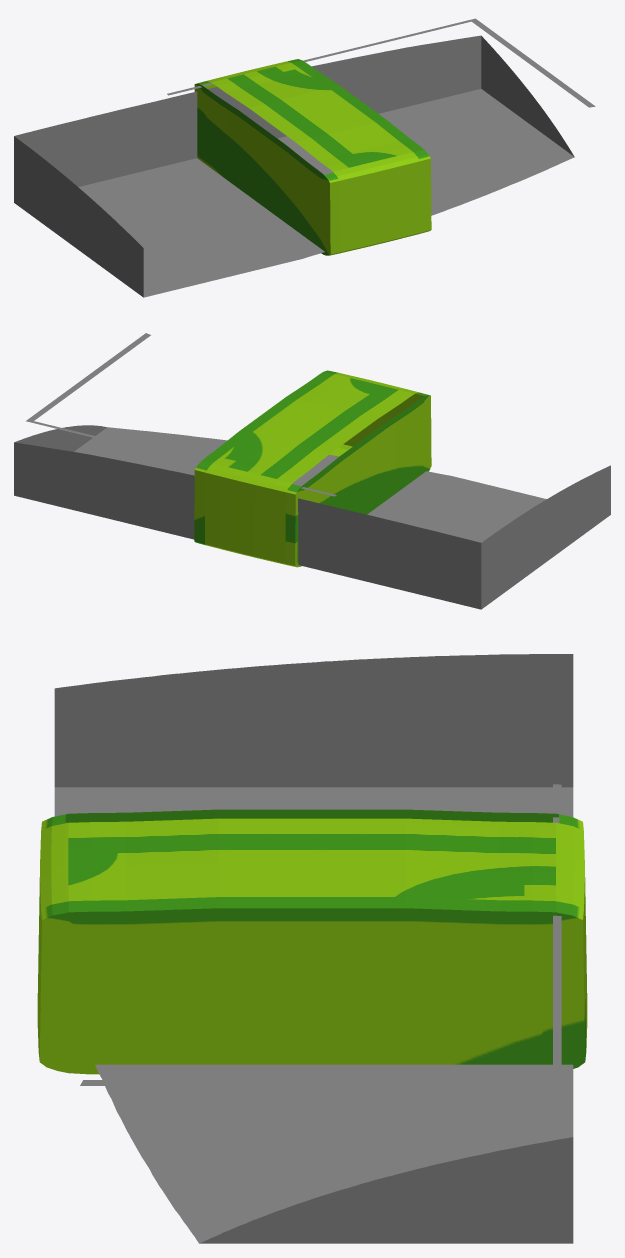
File: Dollar skt.fbx
3 renders of one model, top to bottom at view 1: azimuth 30°, elevation 25°; view 2: azimuth 150°, elevation 25°; view 3: azimuth 270°, elevation 25°, orthographic. The views are drawn at different scales.
Visible parts, largest first — view 1: Dollar Toon; view 2: Dollar Toon; view 3: Dollar Toon.
Part boxes in pixels (<box>): Dollar Toon: <box>14,18,595,297</box>; Dollar Toon: <box>14,333,610,609</box>; Dollar Toon: <box>37,654,587,1243</box>.
Bounding box in the file's own units: 0.6329 × 0.1084 × 0.3223.
